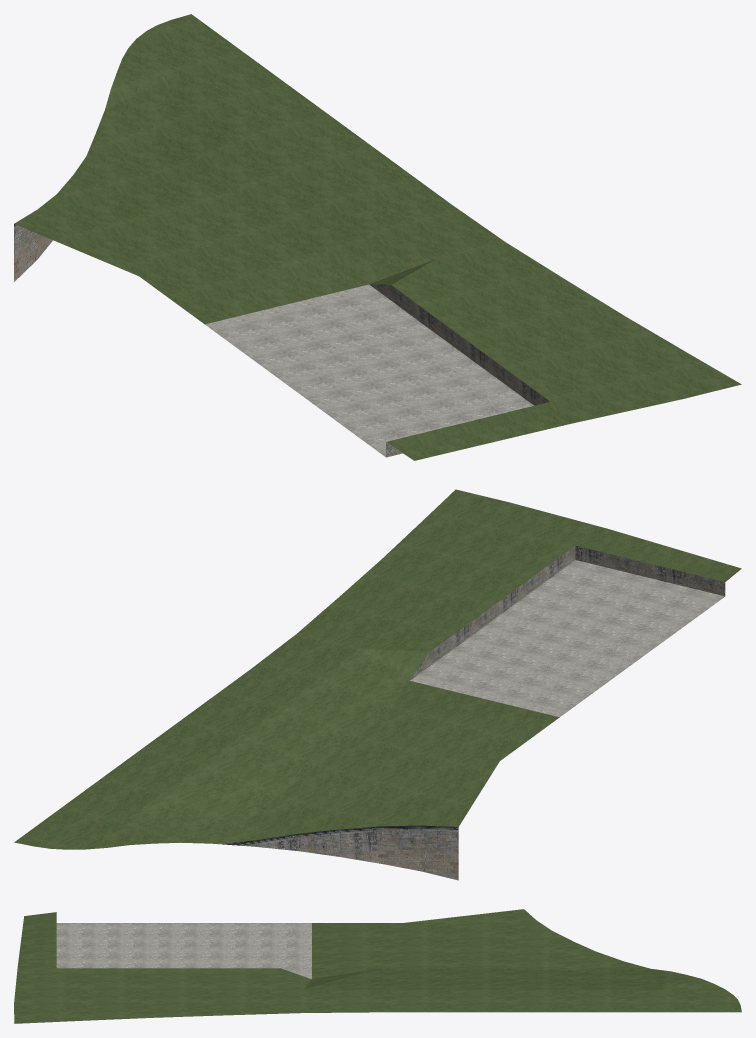
Rendered from viet_03_sfse.obj.
3 renders of one model, top to bottom at view 1: azimuth 30°, elevation 25°; view 2: azimuth 150°, elevation 25°; view 3: azimuth 270°, elevation 25°, orthographic. The views are drawn at different scales.
Parts seen in each view (by area): view 1: viet_03_SFSe; view 2: viet_03_SFSe; view 3: viet_03_SFSe.
Part boxes in pixels (box(x1,y1,x2,y2)): viet_03_SFSe: box(14, 14, 741, 460); viet_03_SFSe: box(14, 489, 741, 880); viet_03_SFSe: box(14, 909, 741, 1023).
Bounding box in the file's own units: 63.56 × 12.35 × 156.
Materials: 3 (3 with a texture image).
